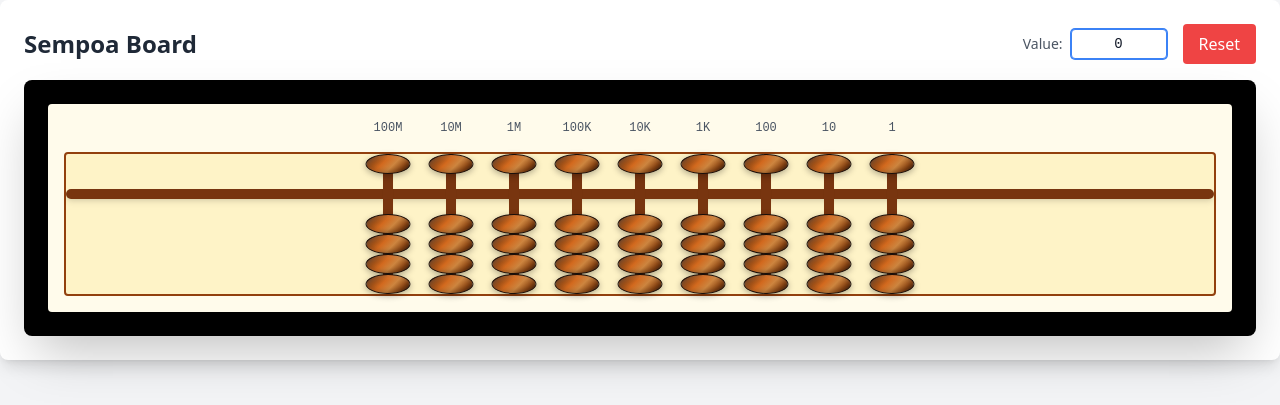
Test: SempoaBoard Keyboard Input › Input Synchronization › should not sync when user has error state
The image size is (1280, 405).
Clear the field with test id "keyboard-input-field": (1118, 44) [1070,29,1166,59]
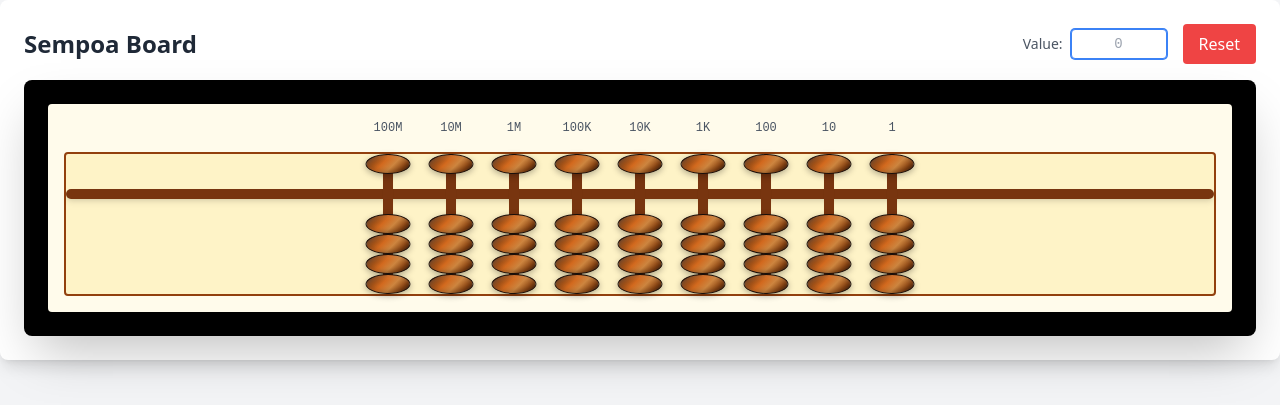
Type keys "abc"
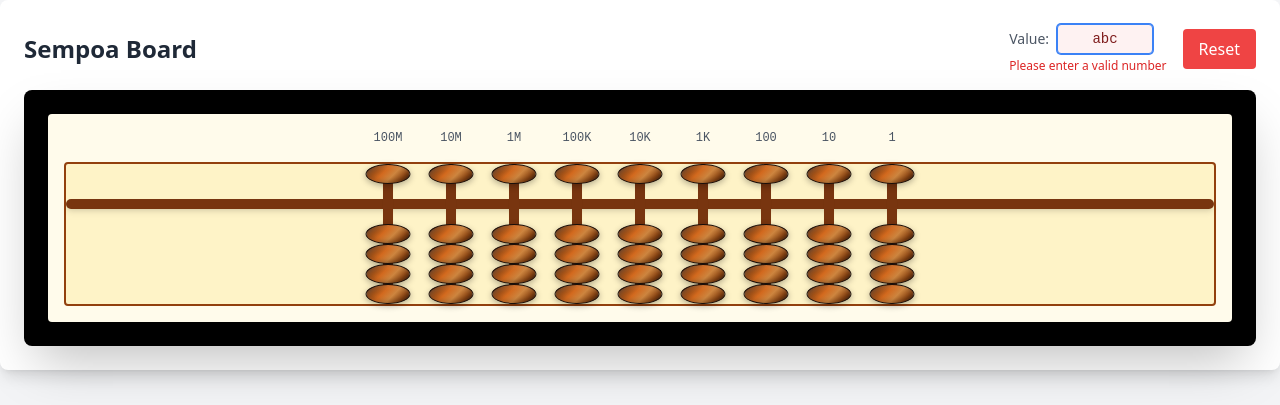
Expected: the field with test id "keyboard-input-field" holds "abc", [1057,24,1153,54]
Expected: the text "Please enter a valid number" is shown, [1009,58,1167,74]
